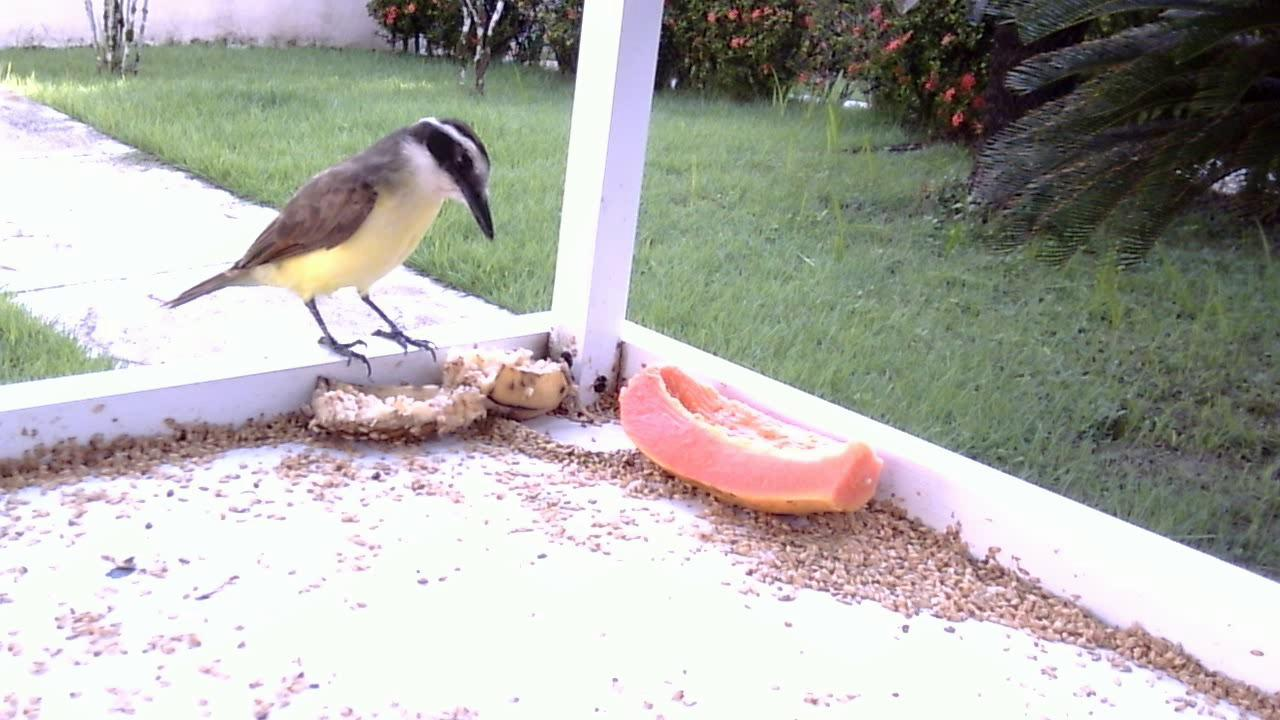bem_te_vi: (150, 107, 500, 384)
